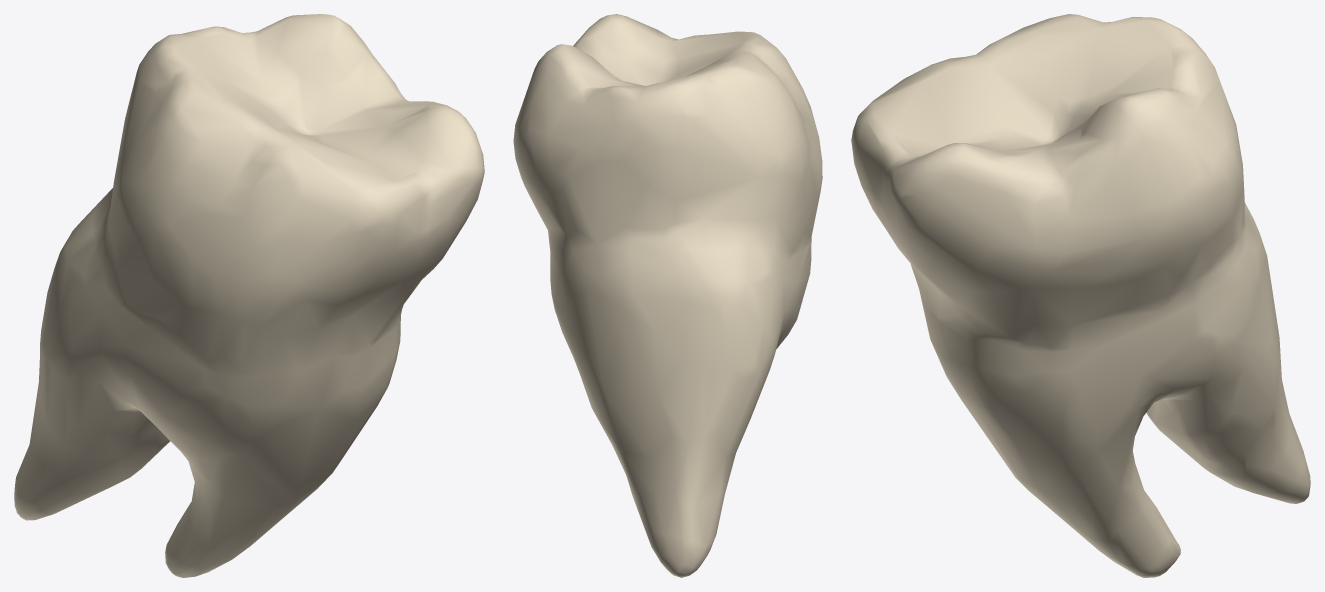
File: lower-first-molar-tooth-r.glb
3 views of the same model, side by side, from view 1: azimuth 30°, elevation 25°; view 2: azimuth 150°, elevation 25°; view 3: azimuth 270°, elevation 25° (orthographic). The views are drawn at different scales.
Parts seen in each view (by area): view 1: Lower first molar tooth.r; view 2: Lower first molar tooth.r; view 3: Lower first molar tooth.r.
Boxes of the visible parts, x1,y1,x2,y2 form: Lower first molar tooth.r: [14, 14, 484, 577]; Lower first molar tooth.r: [513, 14, 822, 577]; Lower first molar tooth.r: [851, 14, 1310, 577].
Bounding box in the file's own units: 0.0121 × 0.0192 × 0.0148.
